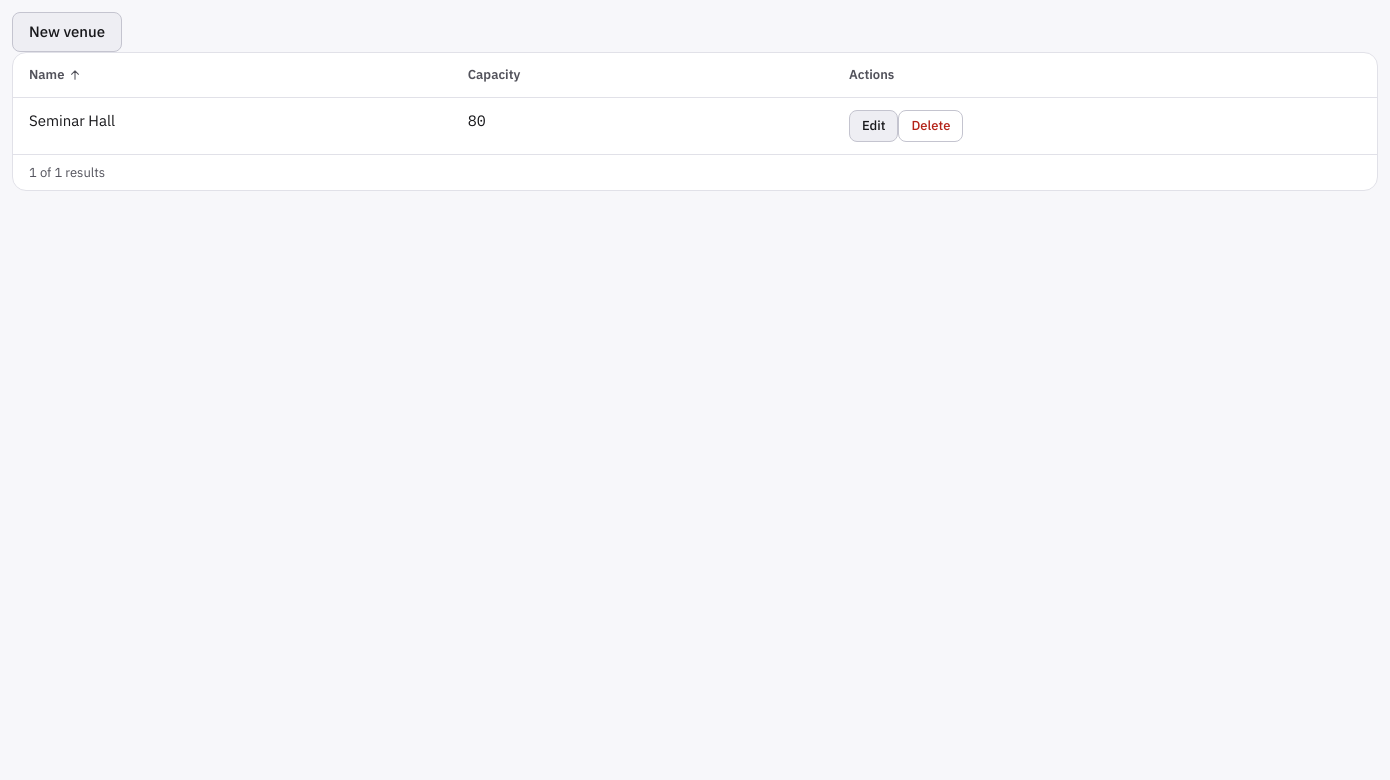
Test case: the CRUD kit on a made up resource › runs a full list, create, edit, delete cycle
Check: the text "Seminar Hall" is shown, box [13,97,452,154]
Click the button "New venue": (67, 32) [12,12,122,52]
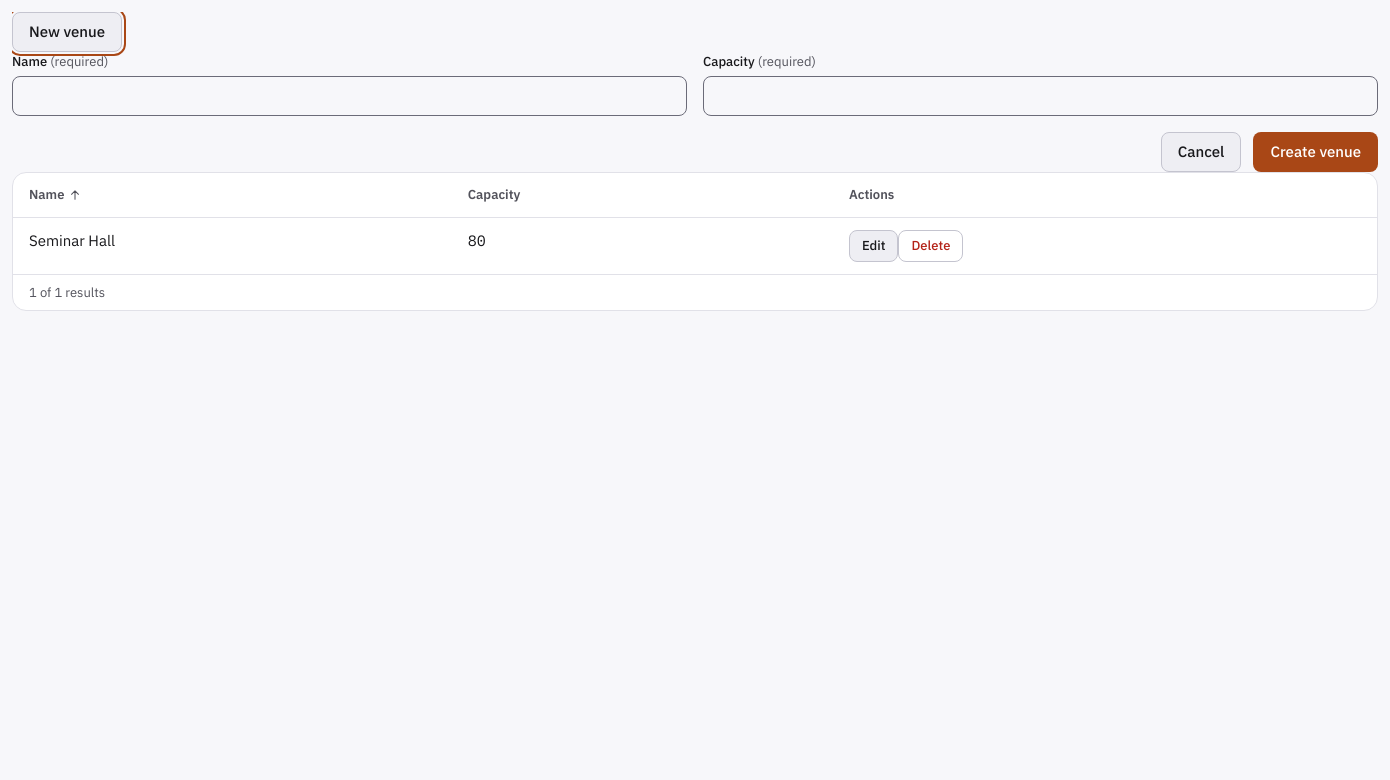
In the field labelled "Name (required)": (350, 96) [12,76,687,116], type "Innovation Lab"
In the number field labelled "Capacity (required)": (1040, 96) [703,76,1378,116], type "40"
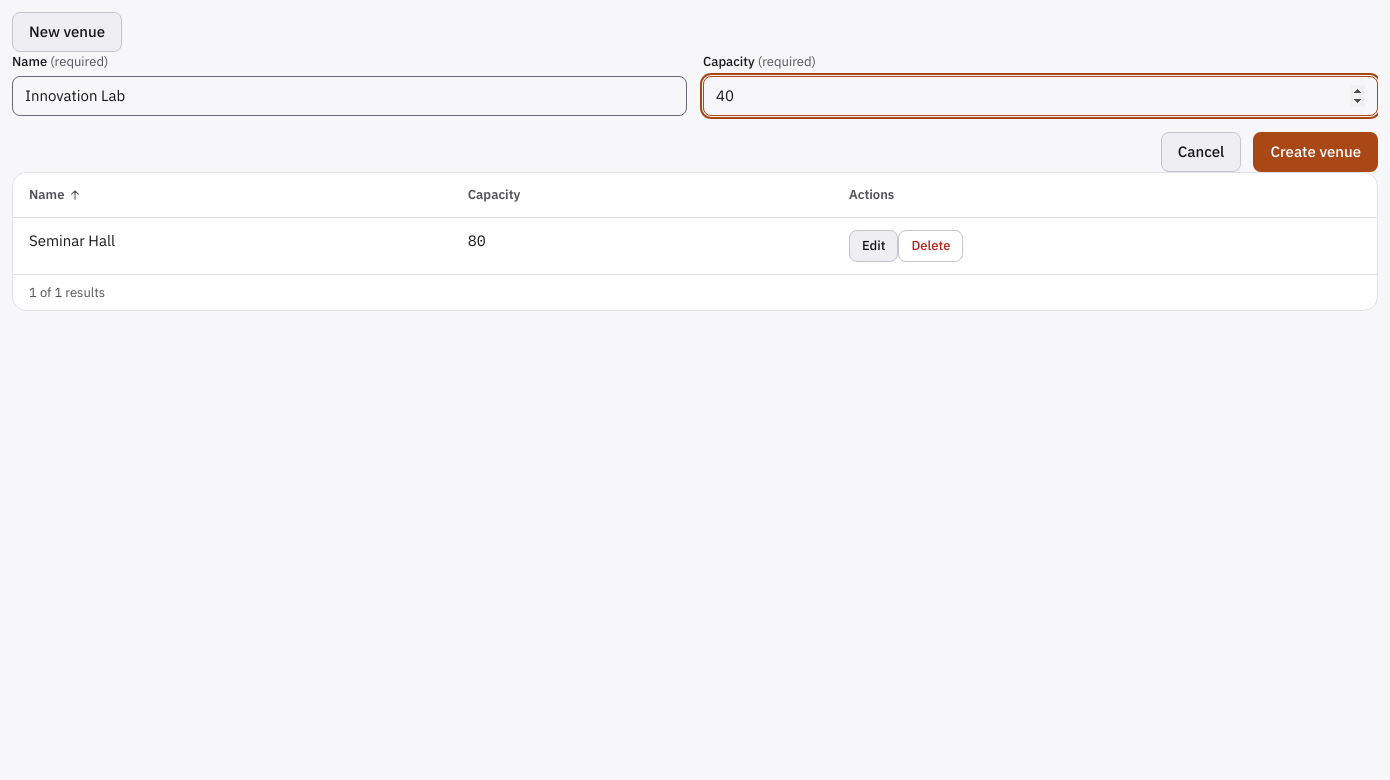
Click the button "Create venue": (1316, 152) [1253,132,1378,172]
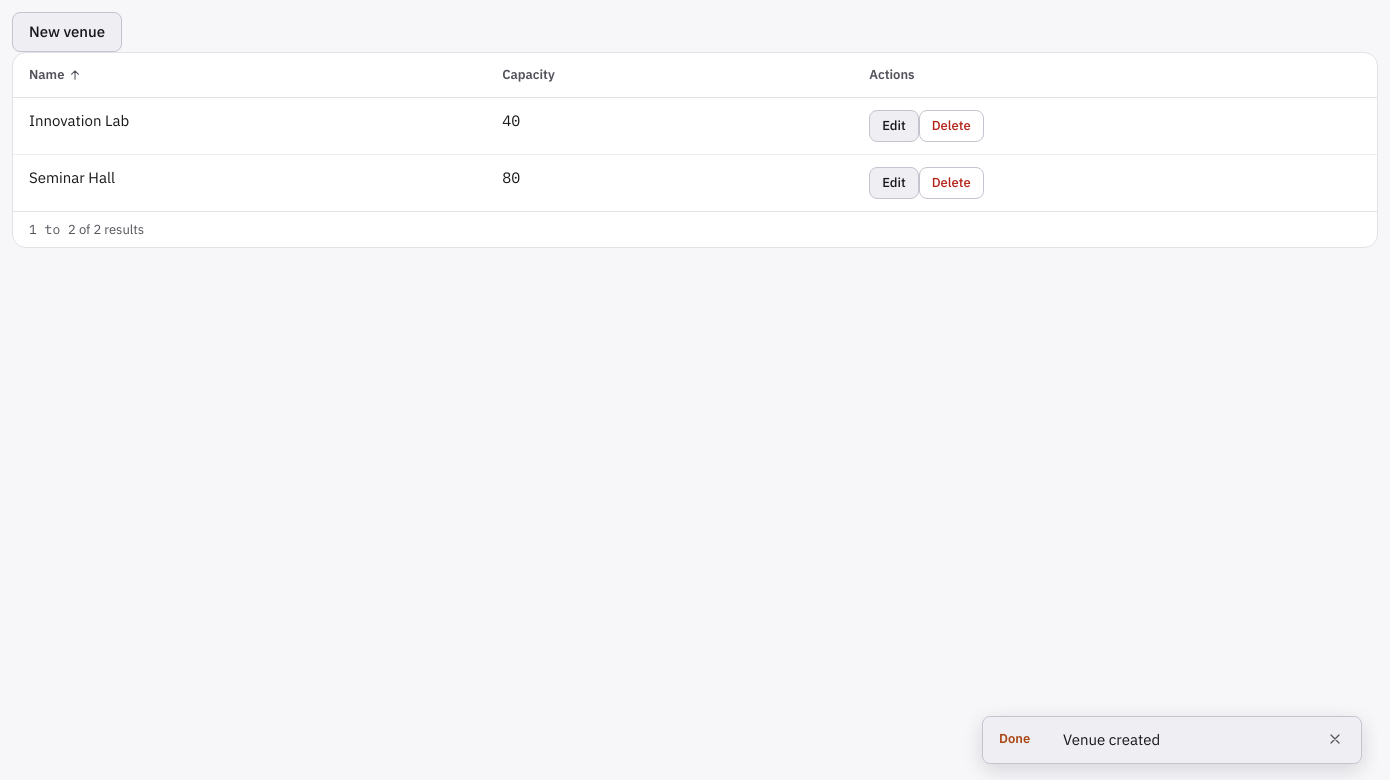
Check: the text "Innovation Lab" is shown, box [13,97,486,154]
Check: the text "Venue created" is shown, box [1063,730,1160,748]
Click the button with aria-label "Edit Innovation Lab": (894, 126) [869,110,919,142]
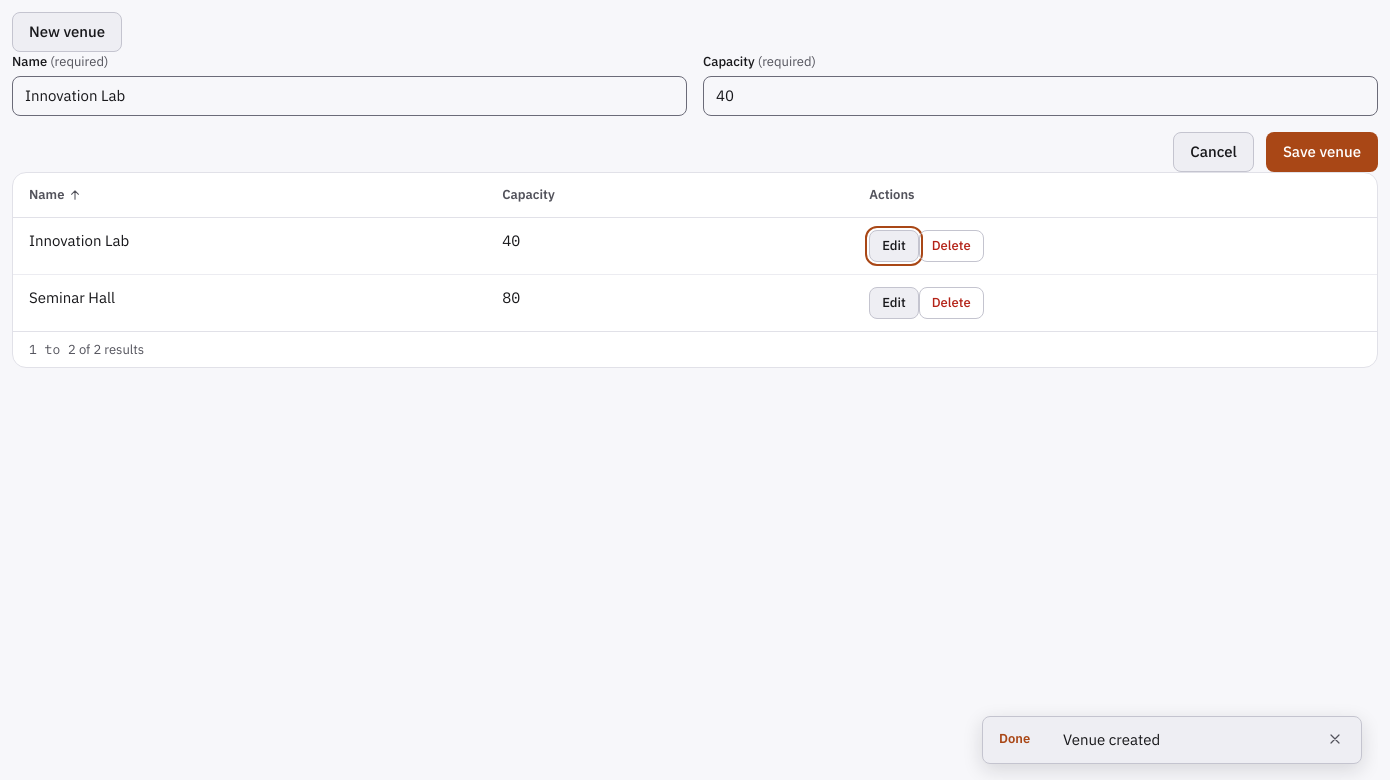
Replace the text in the field labelled "Name (required)" with "Innovation Studio": (350, 96) [12,76,687,116]
Click the button "Save venue": (1322, 152) [1266,132,1378,172]
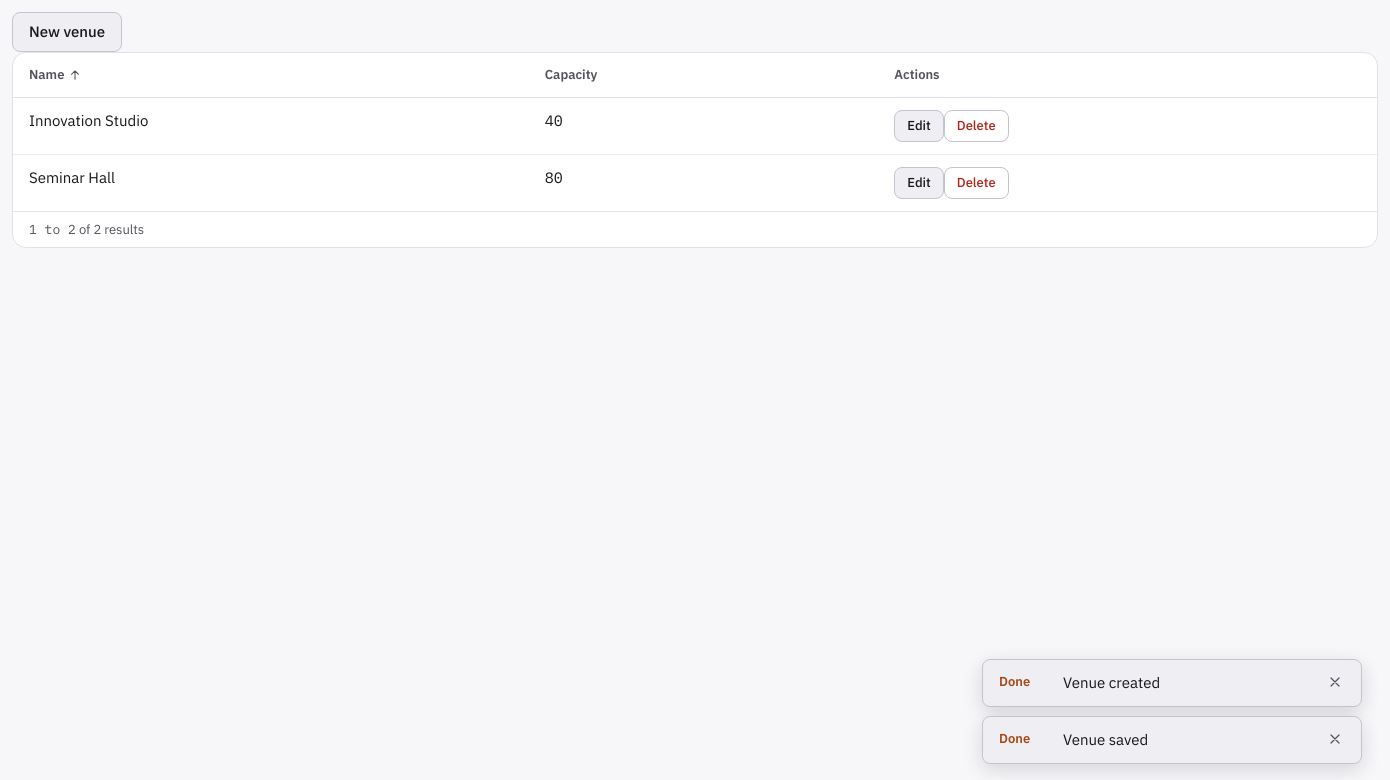
Check: the text "Innovation Studio" is shown, box [13,97,529,154]
Check: the text "Innovation Lab" is gone
Click the button with aria-label "Delete Innovation Studio": (976, 126) [944,110,1009,142]
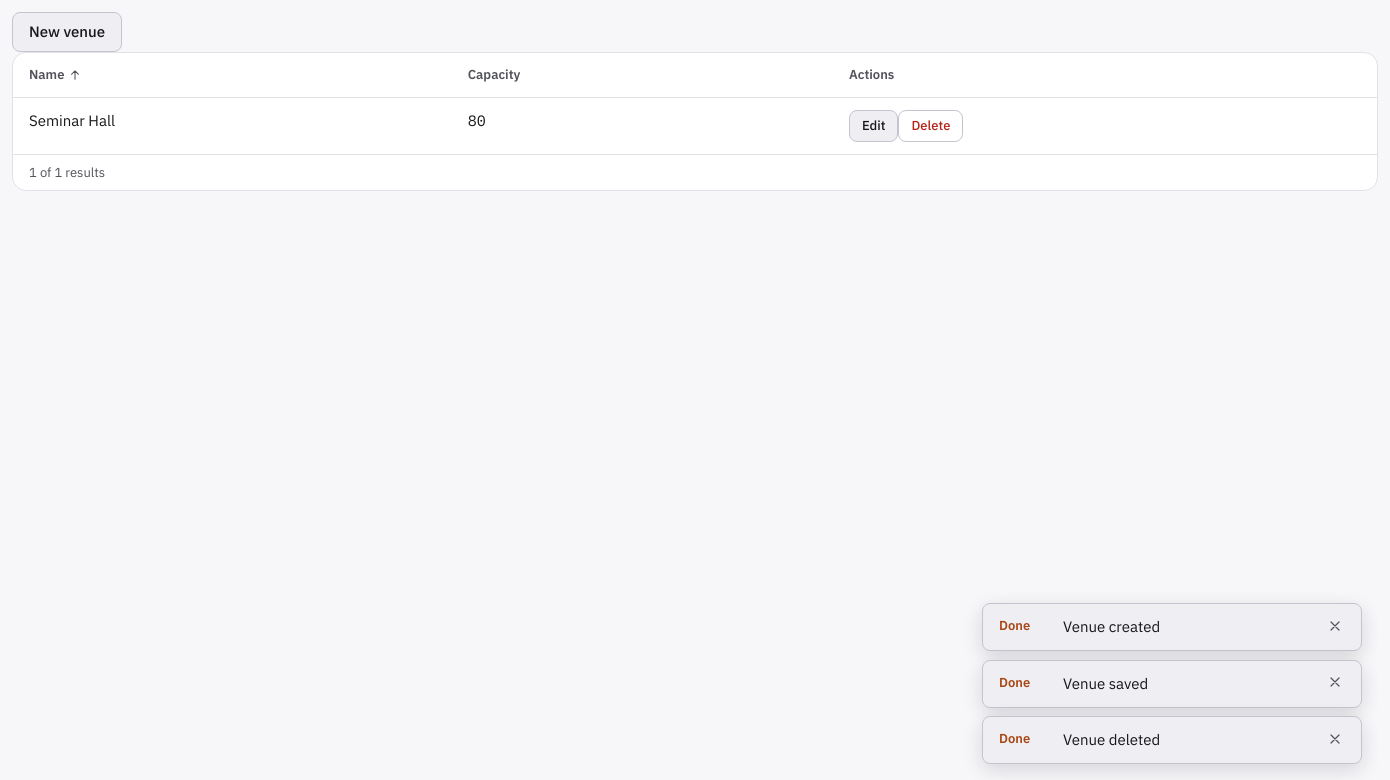
Check: the text "Seminar Hall" is shown, box [13,97,452,154]
Check: the text "Innovation Studio" is gone
Check: the text "Venue deleted" is shown, box [1063,730,1160,748]
